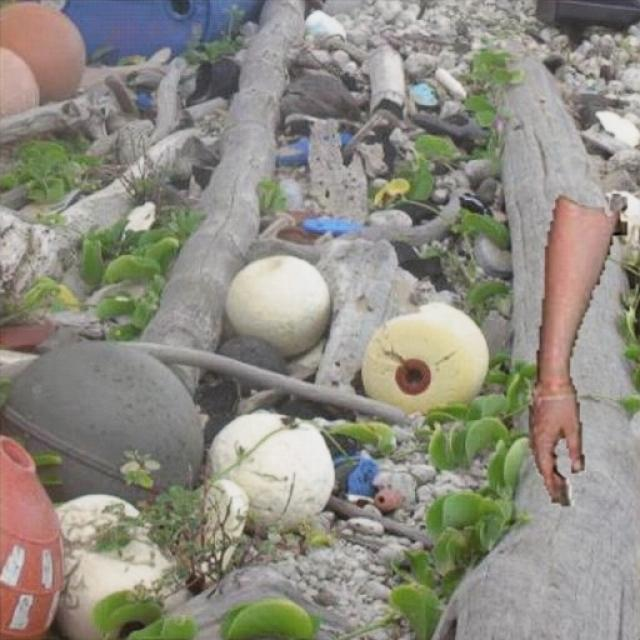Person in Rubble: (528, 194, 626, 505)
